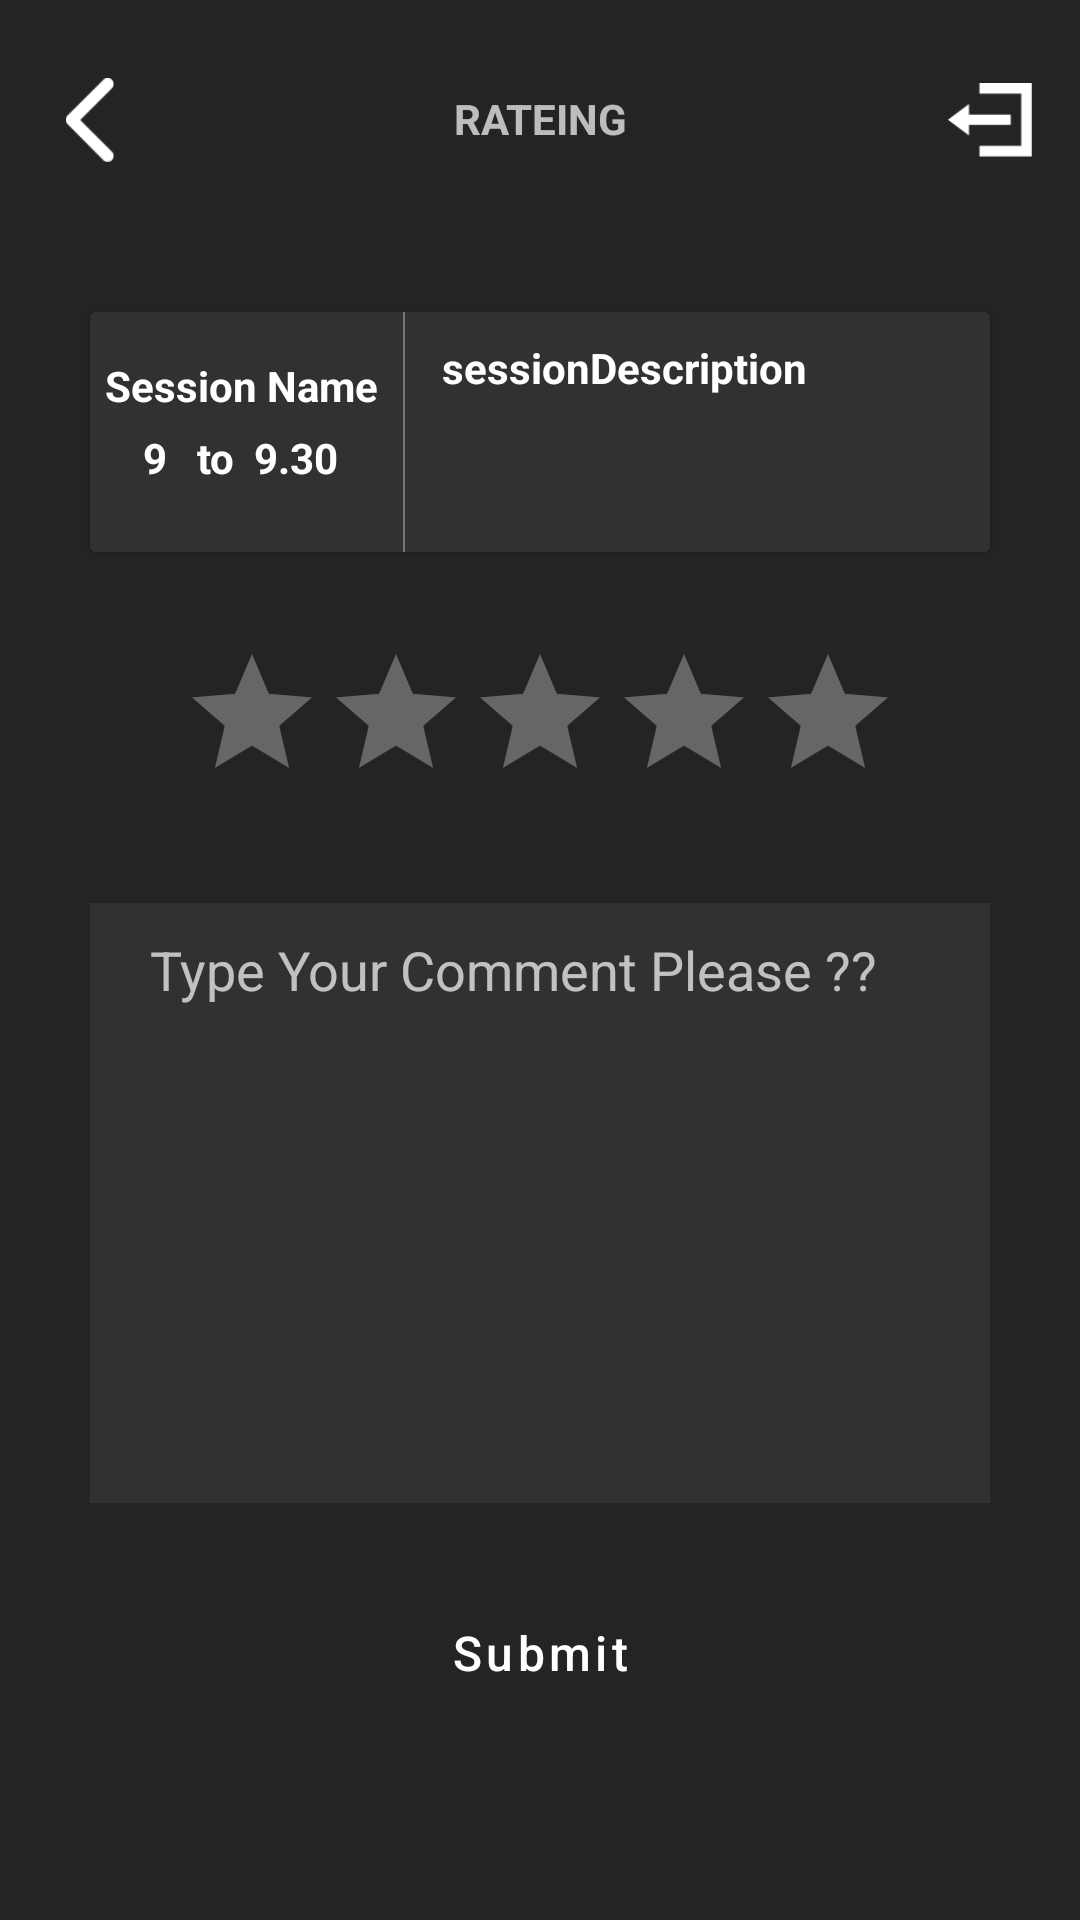

Icon bounding boxes for this 1080x1920 phone screenshot, format (x1, y1, x2, y2):
back: (66, 78, 114, 162)
